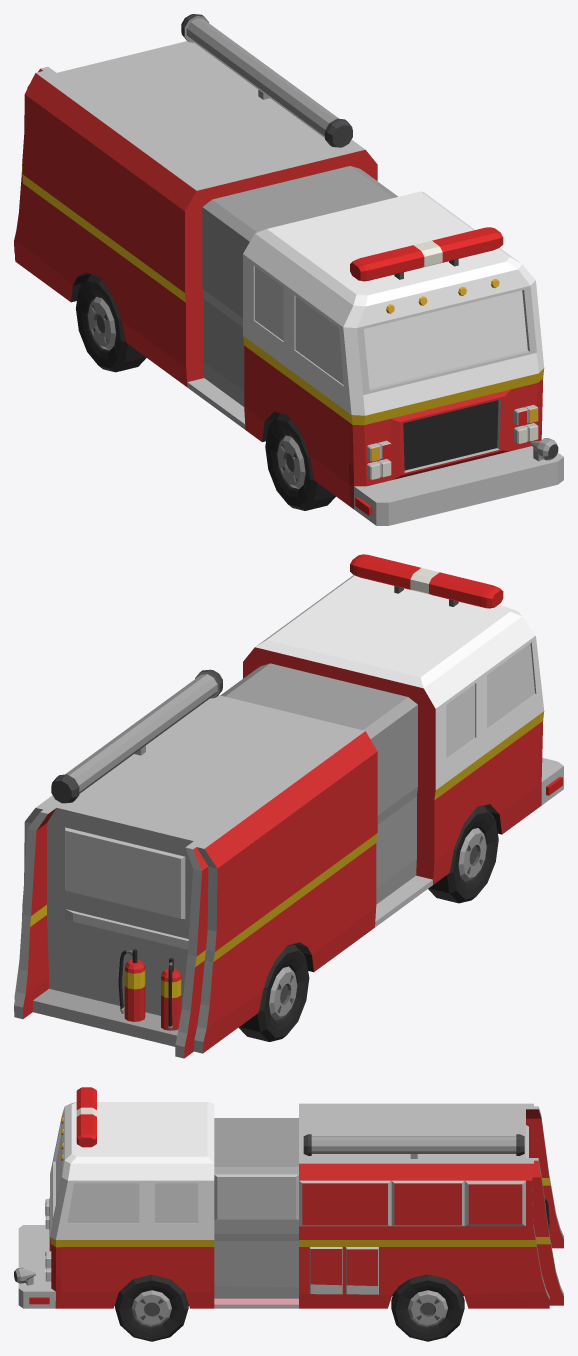
The model's file is Firetruck.fbx.
3 views of the same model, one above another, from view 1: azimuth 30°, elevation 25°; view 2: azimuth 150°, elevation 25°; view 3: azimuth 270°, elevation 25° (orthographic). The views are drawn at different scales.
Parts seen in each view (by area): view 1: Firetruck, Wheel_Big_FrontL.017, Wheel_Big_FrontL.013; view 2: Firetruck, Wheel_Big_FrontL.017, Wheel_Big_FrontL.013; view 3: Firetruck, Wheel_Big_FrontL.016, Wheel_Big_FrontL.011.
Part boxes in pixels (<box>): Firetruck: <box>14,14,563,525</box>; Wheel_Big_FrontL.017: <box>76,274,146,372</box>; Wheel_Big_FrontL.013: <box>265,413,335,510</box>; Firetruck: <box>14,554,563,1058</box>; Wheel_Big_FrontL.017: <box>238,944,309,1041</box>; Wheel_Big_FrontL.013: <box>428,805,498,903</box>; Firetruck: <box>14,1087,563,1316</box>; Wheel_Big_FrontL.016: <box>391,1274,464,1341</box>; Wheel_Big_FrontL.011: <box>115,1274,188,1341</box>.
Size of the model in its own units: 338 by 451 by 1130.
